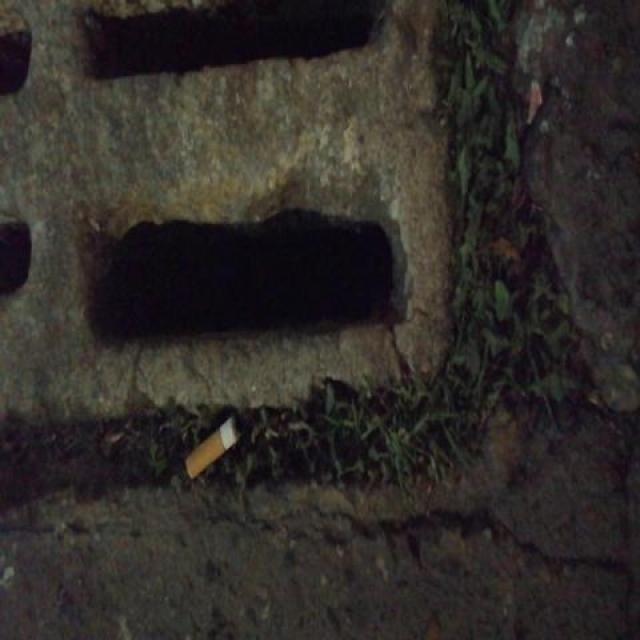non-organic waste: (182, 412, 242, 480)
